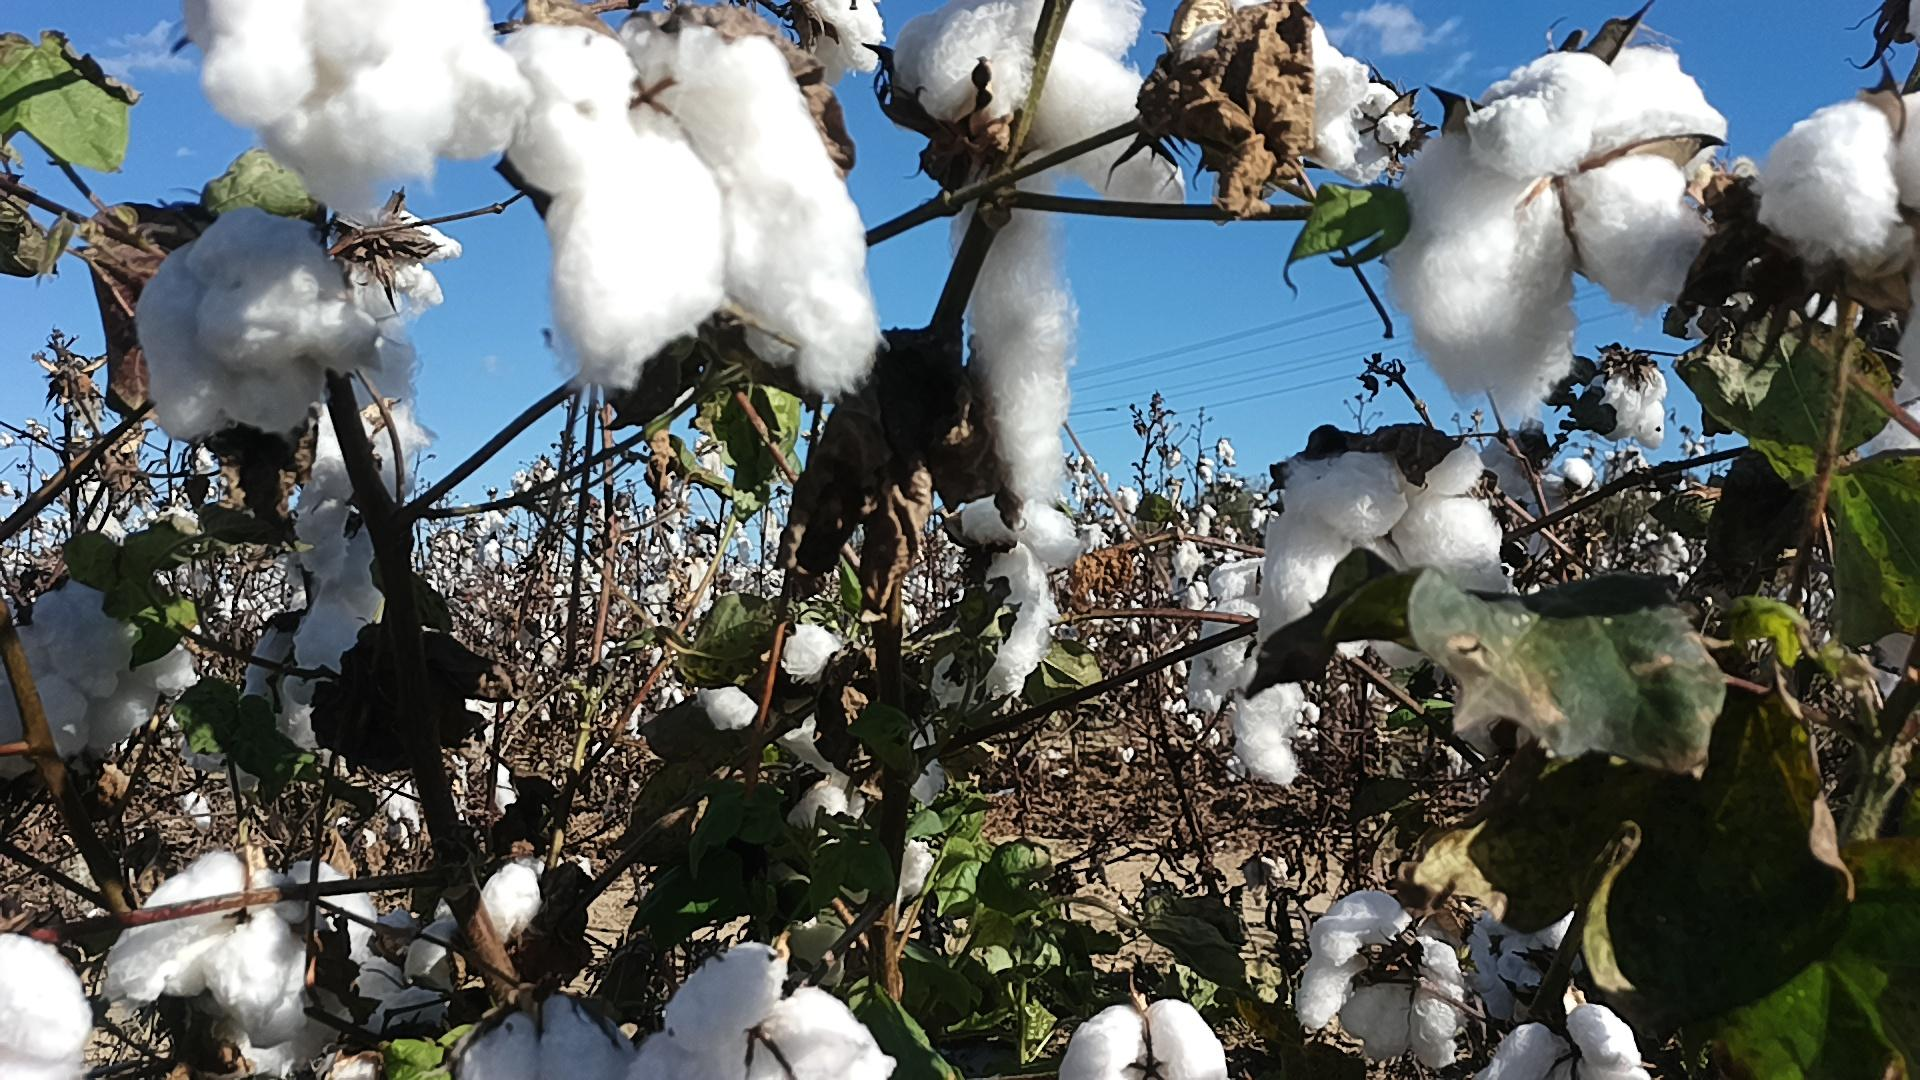cotton_ready: (510, 24, 884, 398), (1391, 49, 1729, 414), (952, 0, 1187, 502), (187, 0, 537, 202), (1261, 436, 1510, 673), (141, 208, 376, 436), (105, 855, 318, 1047), (628, 944, 894, 1080), (1180, 0, 1367, 171), (1299, 889, 1466, 1065), (1756, 92, 1920, 257), (1191, 560, 1303, 787), (960, 500, 1080, 700), (698, 625, 855, 775), (303, 327, 426, 510), (1807, 269, 1920, 452), (324, 204, 467, 336), (44, 641, 198, 757), (893, 0, 1031, 127), (796, 782, 931, 902), (455, 993, 636, 1080), (294, 502, 384, 676), (1060, 1001, 1230, 1080), (0, 932, 91, 1080), (1478, 1005, 1648, 1080), (351, 920, 459, 1036), (224, 982, 351, 1080), (1472, 909, 1576, 1026), (901, 654, 982, 803), (30, 579, 132, 696), (480, 856, 599, 944), (245, 620, 320, 752), (282, 858, 369, 967), (1589, 367, 1667, 455), (1349, 82, 1415, 186), (806, 0, 885, 78)
